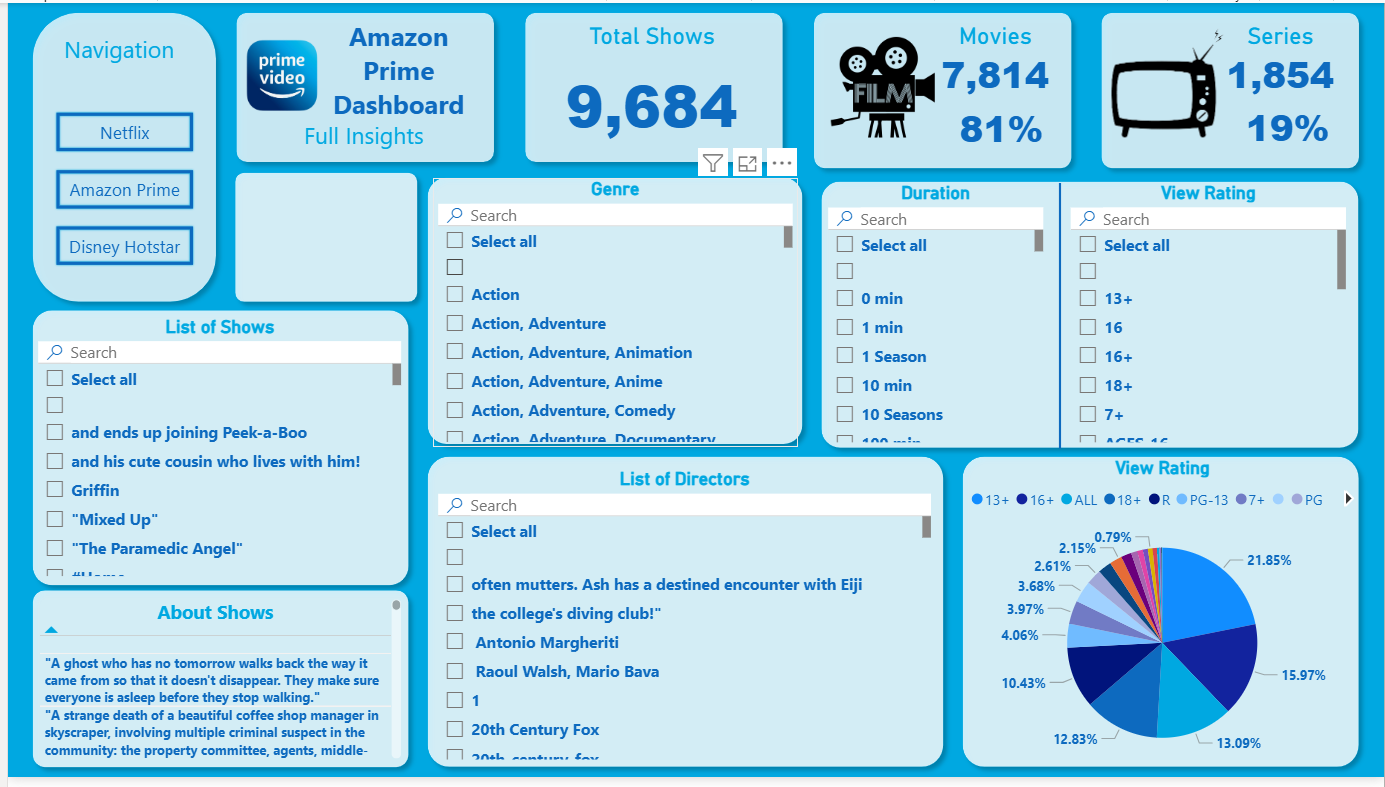

The dashboard page shown, as its layout file describes it:
{"tool":"powerbi","page":{"name":"Amazon Prime","canvas":[1280,720],"ordinal":1},"visuals":[{"type":"shape","box":[203.7,0.2,257.6,156.9],"z":0},{"type":"shape","box":[14,0,188.5,286.8],"z":1000},{"type":"shape","box":[471.8,0.2,257.6,156.9],"z":2000},{"type":"shape","box":[741.1,0.2,257.6,162.7],"z":3000},{"type":"shape","box":[1008,0.2,257.6,162.7],"z":4000},{"type":"textbox","box":[33,23.6,141.7,41],"z":5000},{"type":"textbox","box":[278.6,9.6,168.6,106.5],"z":6000},{"type":"textbox","box":[215.4,103.3,231.8,39.8],"z":7000},{"type":"card","title":"Total Shows","fields":{"Values":["All Measures.Shows Prime"]},"box":[484.7,19,228.3,124.1],"z":8000},{"type":"card","title":"Movies","fields":{"Values":["All Measures.Movies Prm"]},"box":[853.5,19,130,71.4],"z":9000},{"type":"card","title":"Male","fields":{"Values":["All Measures.% movies prm"]},"box":[869.9,90.4,108.9,52.7],"z":10000},{"type":"card","title":"Series","fields":{"Values":["All Measures.Series Prm"]},"box":[1119.2,18.7,130,71.4],"z":11000},{"type":"card","title":"Male","fields":{"Values":["All Measures.% series prm"]},"box":[1135.5,90.1,108.9,52.7],"z":12000},{"type":"image","box":[758.6,27.2,111.2,103],"z":13000},{"type":"image","box":[1020.9,19,115.9,111.2],"z":14000},{"type":"image","box":[203.7,23.6,101.9,90.1],"z":15000},{"type":"actionButton","box":[43.6,99.7,131.1,39.8],"z":16000},{"type":"actionButton","box":[43.6,153.6,131.1,39.8],"z":17000},{"type":"actionButton","box":[43.6,206.3,131.1,39.8],"z":18000},{"type":"shape","box":[202.5,148.7,187.3,138.1],"z":19000},{"type":"shape","box":[748.1,156.9,517.5,265.8],"z":20000},{"type":"shape","box":[879.2,413.3,386.3,306.7],"z":21000},{"type":"pieChart","title":"View Rating","fields":{"Y":["CountNonNull(amazon_prime_titles.title)"],"Category":["amazon_prime_titles.rating"]},"box":[890.9,422.6,366.4,297.4],"z":22000},{"type":"shape","box":[381.7,153.4,366.4,265.8],"z":23000},{"type":"shape","box":[14,276.3,367.6,274],"z":24000},{"type":"shape","box":[14,537.4,367.6,182.6],"z":25000},{"type":"shape","box":[381.7,413.3,497.6,306.7],"z":26000},{"type":"slicer","title":"List of Shows","fields":{"Values":["amazon_prime_titles.title"]},"box":[23.4,290.3,347.7,247],"z":27000},{"type":"tableEx","title":"Summary","fields":{"Values":["amazon_prime_titles.description"]},"box":[23.4,550.2,347.7,158],"z":28000},{"type":"slicer","title":"Genre","fields":{"Values":["amazon_prime_titles.listed_in"]},"box":[395.7,162.7,339.5,250.5],"z":29000},{"type":"slicer","title":"Duration","fields":{"Values":["amazon_prime_titles.duration"]},"box":[758.6,166.2,209.6,247],"z":30000},{"type":"slicer","title":"View Rating","fields":{"Values":["amazon_prime_titles.rating"]},"box":[983.4,166.2,265.8,247],"z":31000},{"type":"shape","box":[962.3,167.4,31.6,247],"z":32000},{"type":"slicer","title":"List of Directors","fields":{"Values":["amazon_prime_titles.director"]},"box":[395.7,432,468.3,276.3],"z":33000}]}

Visuals, with their boxes in screenshot pixels (x1, y1, x2, y2), scaled from the page's 1280x720 canvas onto the 1385x787 screenshot:
shape: <box>220,0,499,172</box>
shape: <box>15,0,219,313</box>
shape: <box>511,0,789,172</box>
shape: <box>802,0,1081,178</box>
shape: <box>1091,0,1369,178</box>
textbox: <box>36,26,189,71</box>
textbox: <box>301,10,484,127</box>
textbox: <box>233,113,484,156</box>
"Total Shows" card: <box>524,21,771,156</box>
"Movies" card: <box>924,21,1064,99</box>
"Male" card: <box>941,99,1059,156</box>
"Series" card: <box>1211,20,1352,98</box>
"Male" card: <box>1229,98,1346,156</box>
image: <box>821,30,941,142</box>
image: <box>1105,21,1230,142</box>
image: <box>220,26,331,124</box>
actionButton: <box>47,109,189,152</box>
actionButton: <box>47,168,189,211</box>
actionButton: <box>47,225,189,269</box>
shape: <box>219,163,422,313</box>
shape: <box>809,172,1369,462</box>
shape: <box>951,452,1369,786</box>
"View Rating" pieChart: <box>964,462,1360,786</box>
shape: <box>413,168,809,458</box>
shape: <box>15,302,413,602</box>
shape: <box>15,587,413,786</box>
shape: <box>413,452,951,786</box>
"List of Shows" slicer: <box>25,317,402,587</box>
"Summary" tableEx: <box>25,601,402,774</box>
"Genre" slicer: <box>428,178,796,452</box>
"Duration" slicer: <box>821,182,1048,452</box>
"View Rating" slicer: <box>1064,182,1352,452</box>
shape: <box>1041,183,1075,453</box>
"List of Directors" slicer: <box>428,472,935,774</box>
